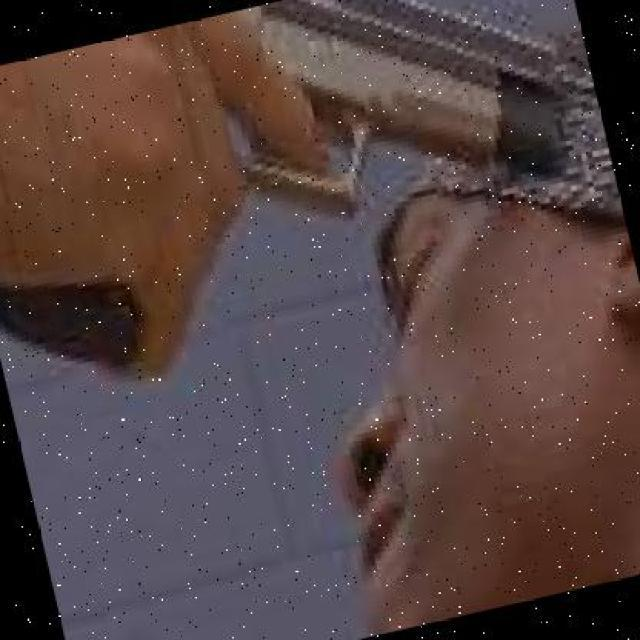rifle: (238, 0, 594, 217)
